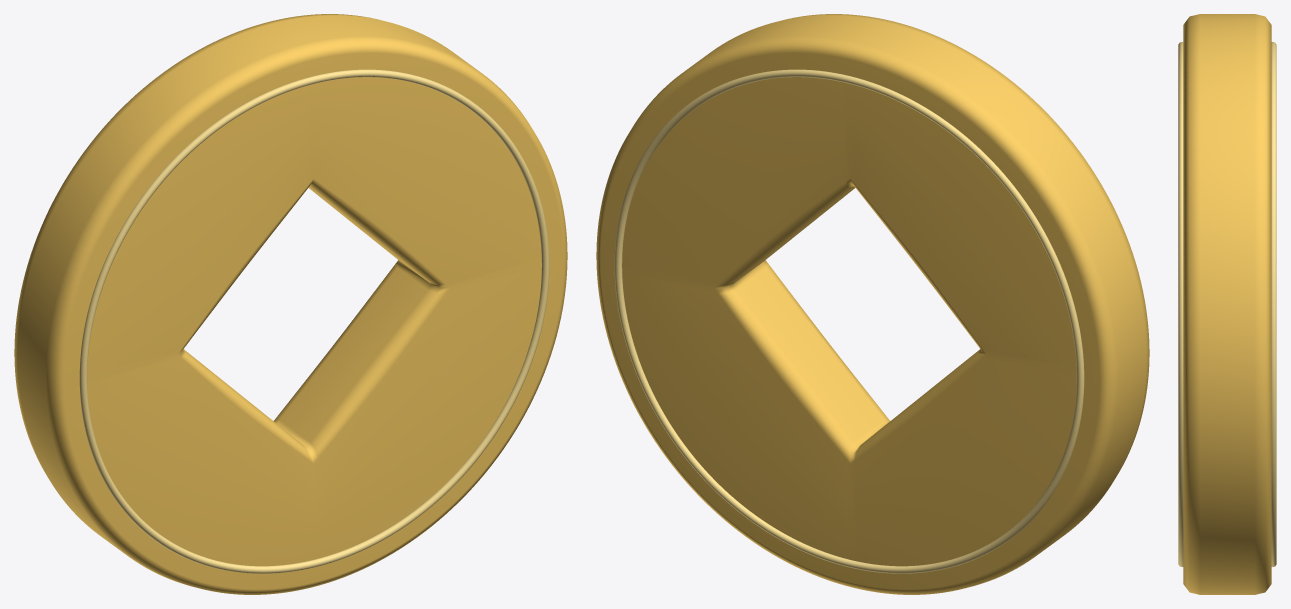
The model's file is coin.glb.
The picture shows the model from 3 angles, left to right: view 1: azimuth 30°, elevation 25°; view 2: azimuth 150°, elevation 25°; view 3: azimuth 270°, elevation 25°; orthographic projection. The views are drawn at different scales.
Visible parts, largest first — view 1: Gold coin / beveled diamond aperture, Fine rim / 0.108; view 2: Gold coin / beveled diamond aperture, Fine rim / -0.108; view 3: Gold coin / beveled diamond aperture, Fine rim / -0.108, Fine rim / 0.108.
Boxes of the visible parts, x1,y1,x2,y2 form: Gold coin / beveled diamond aperture: (14, 14, 567, 594); Fine rim / 0.108: (79, 69, 549, 573); Gold coin / beveled diamond aperture: (596, 14, 1149, 594); Fine rim / -0.108: (614, 69, 1084, 573); Gold coin / beveled diamond aperture: (1183, 14, 1271, 594); Fine rim / -0.108: (1271, 42, 1276, 566); Fine rim / 0.108: (1178, 42, 1183, 566).
Bounding box in the file's own units: 1.38 × 1.38 × 0.2331.
